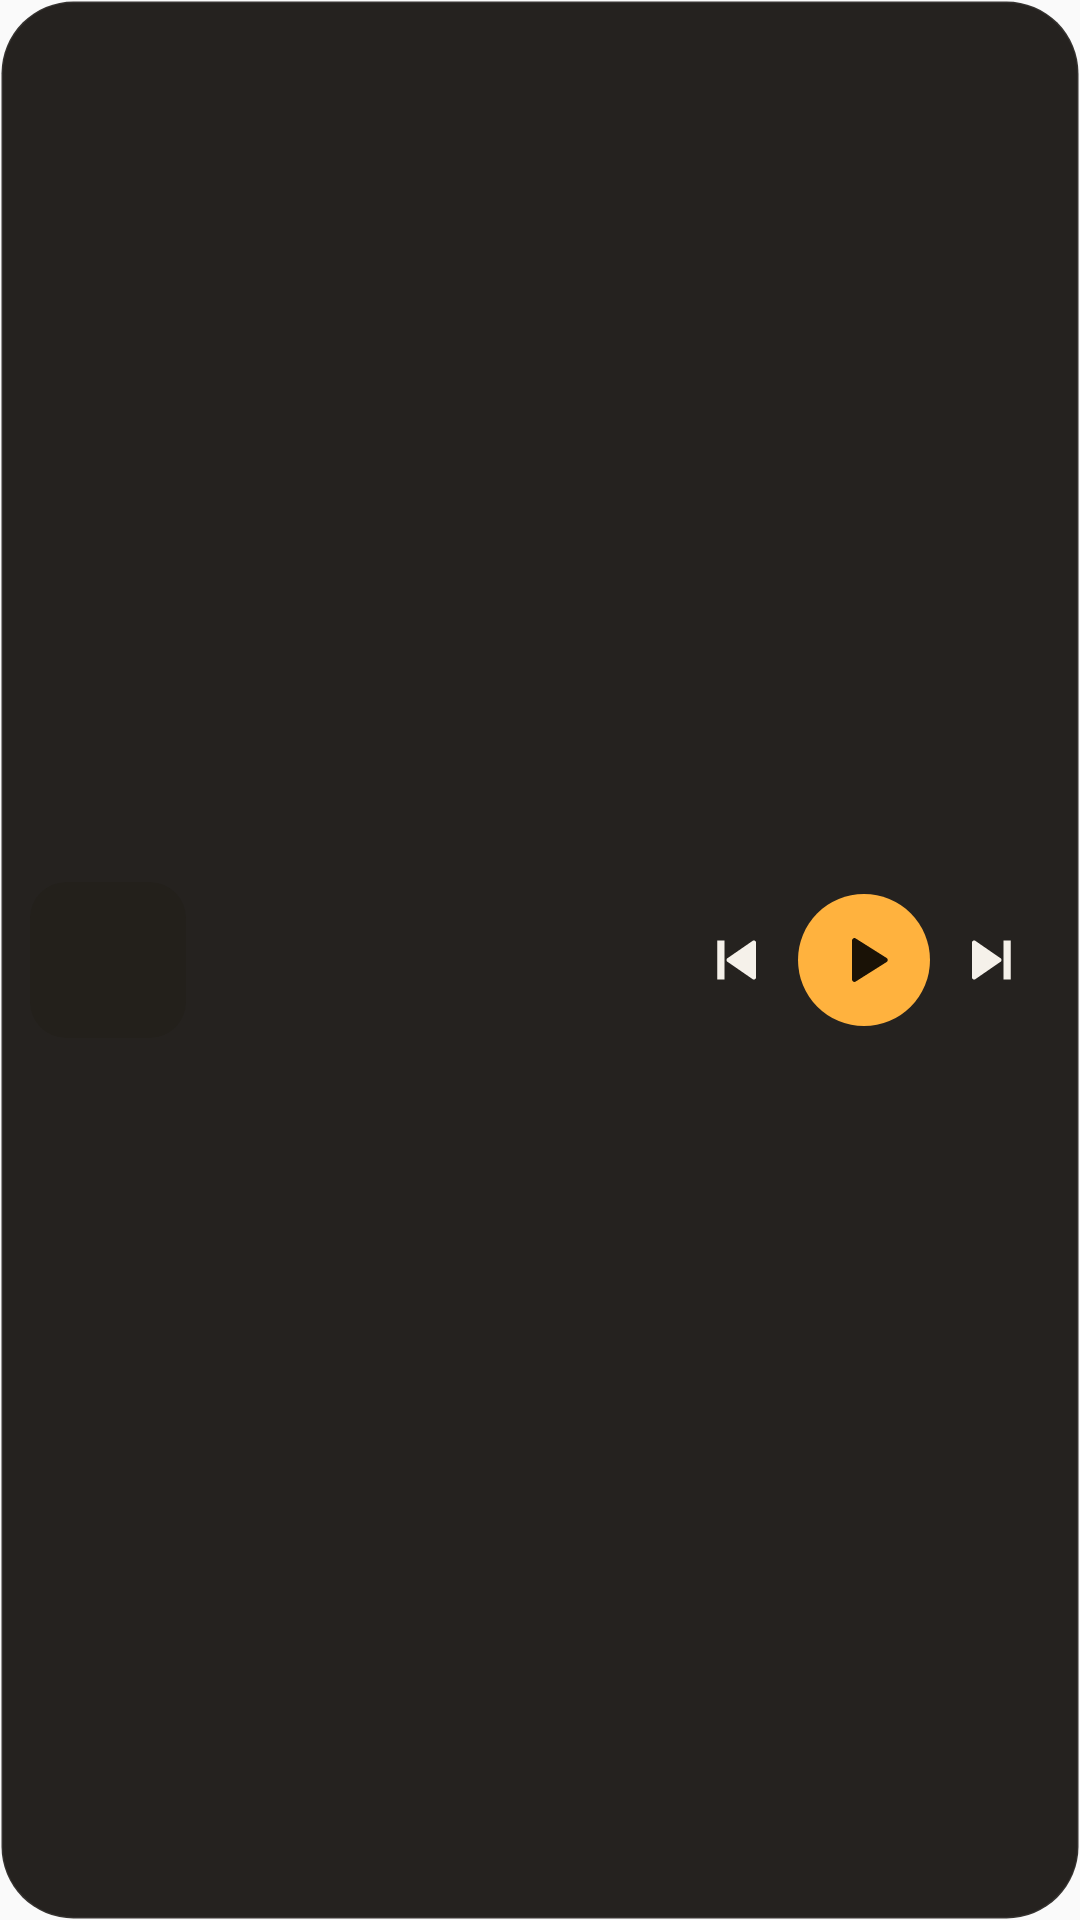

Icons on this 1080*1920 Android screen, each with its box as (x1, y1, x2, y2):
Играть или пауза: (798, 894, 930, 1026)
Предыдущий: (717, 940, 756, 980)
Следующий: (972, 940, 1011, 980)
